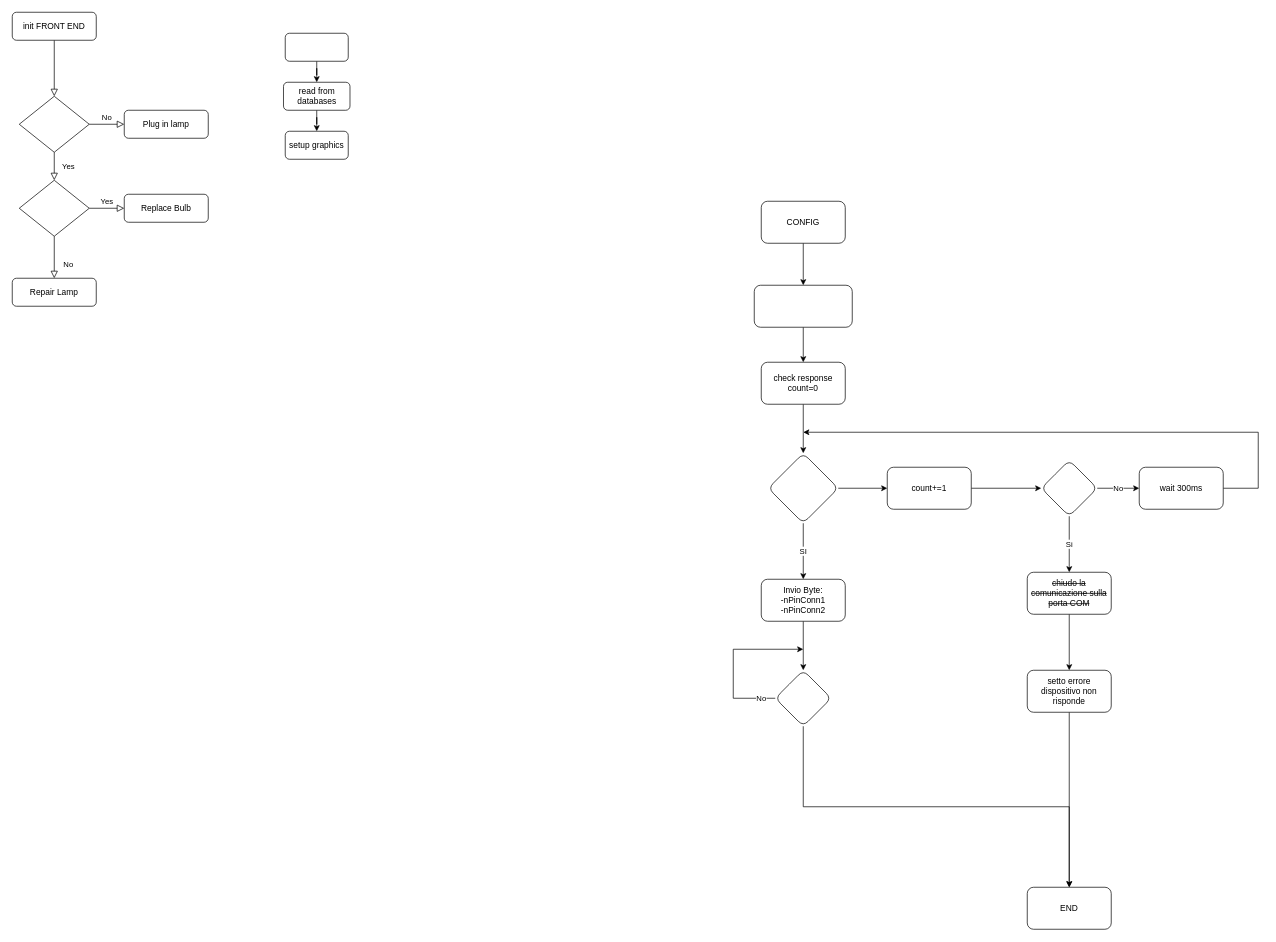
This 1276x942 diagram has some shape labels left out. Each missing label, with the box of its shape:
Bulb burned out?: (19, 180, 89, 236)
count==3?: (1041, 460, 1097, 516)
invia comando 0xAA (Check Communication): (754, 285, 852, 327)
Lamp plugged in?: (19, 96, 89, 152)
ricevo 0xAA in risposta?: (768, 453, 838, 523)
Ricevo 0xFF?: (775, 670, 831, 726)
setup databases: (285, 33, 348, 61)
